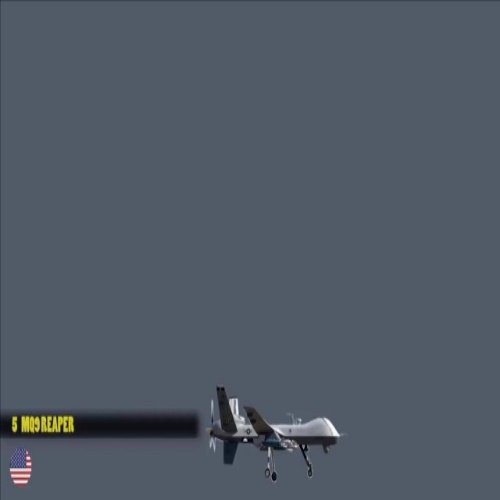uav840: (208, 383, 341, 486)
